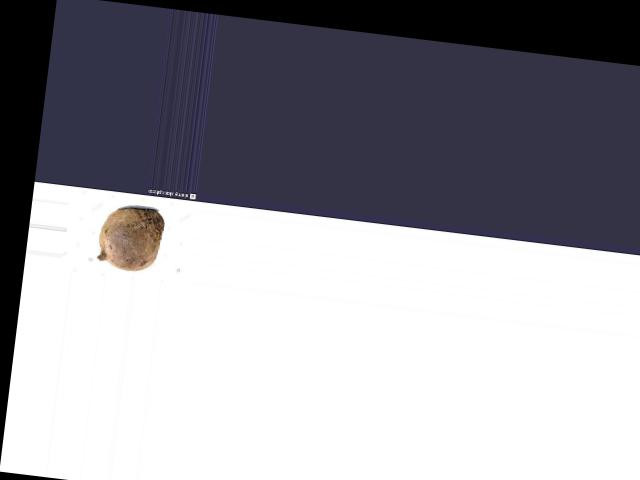beet: (95, 202, 165, 273)
